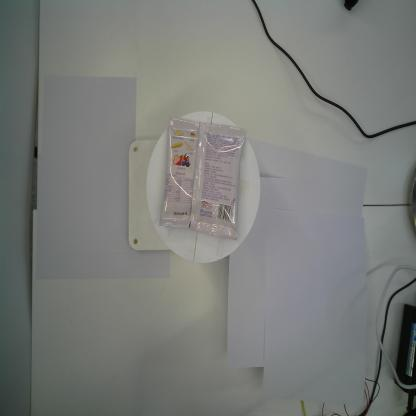Instant Drink: (158, 118, 247, 242)
